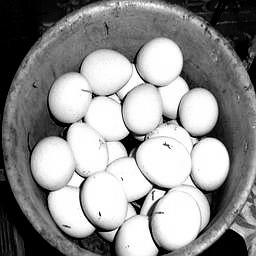telur: (136, 135, 191, 188), (150, 193, 200, 248), (136, 35, 185, 85), (84, 174, 127, 229), (83, 46, 131, 95), (191, 137, 231, 192), (33, 135, 74, 188), (180, 89, 218, 135)
